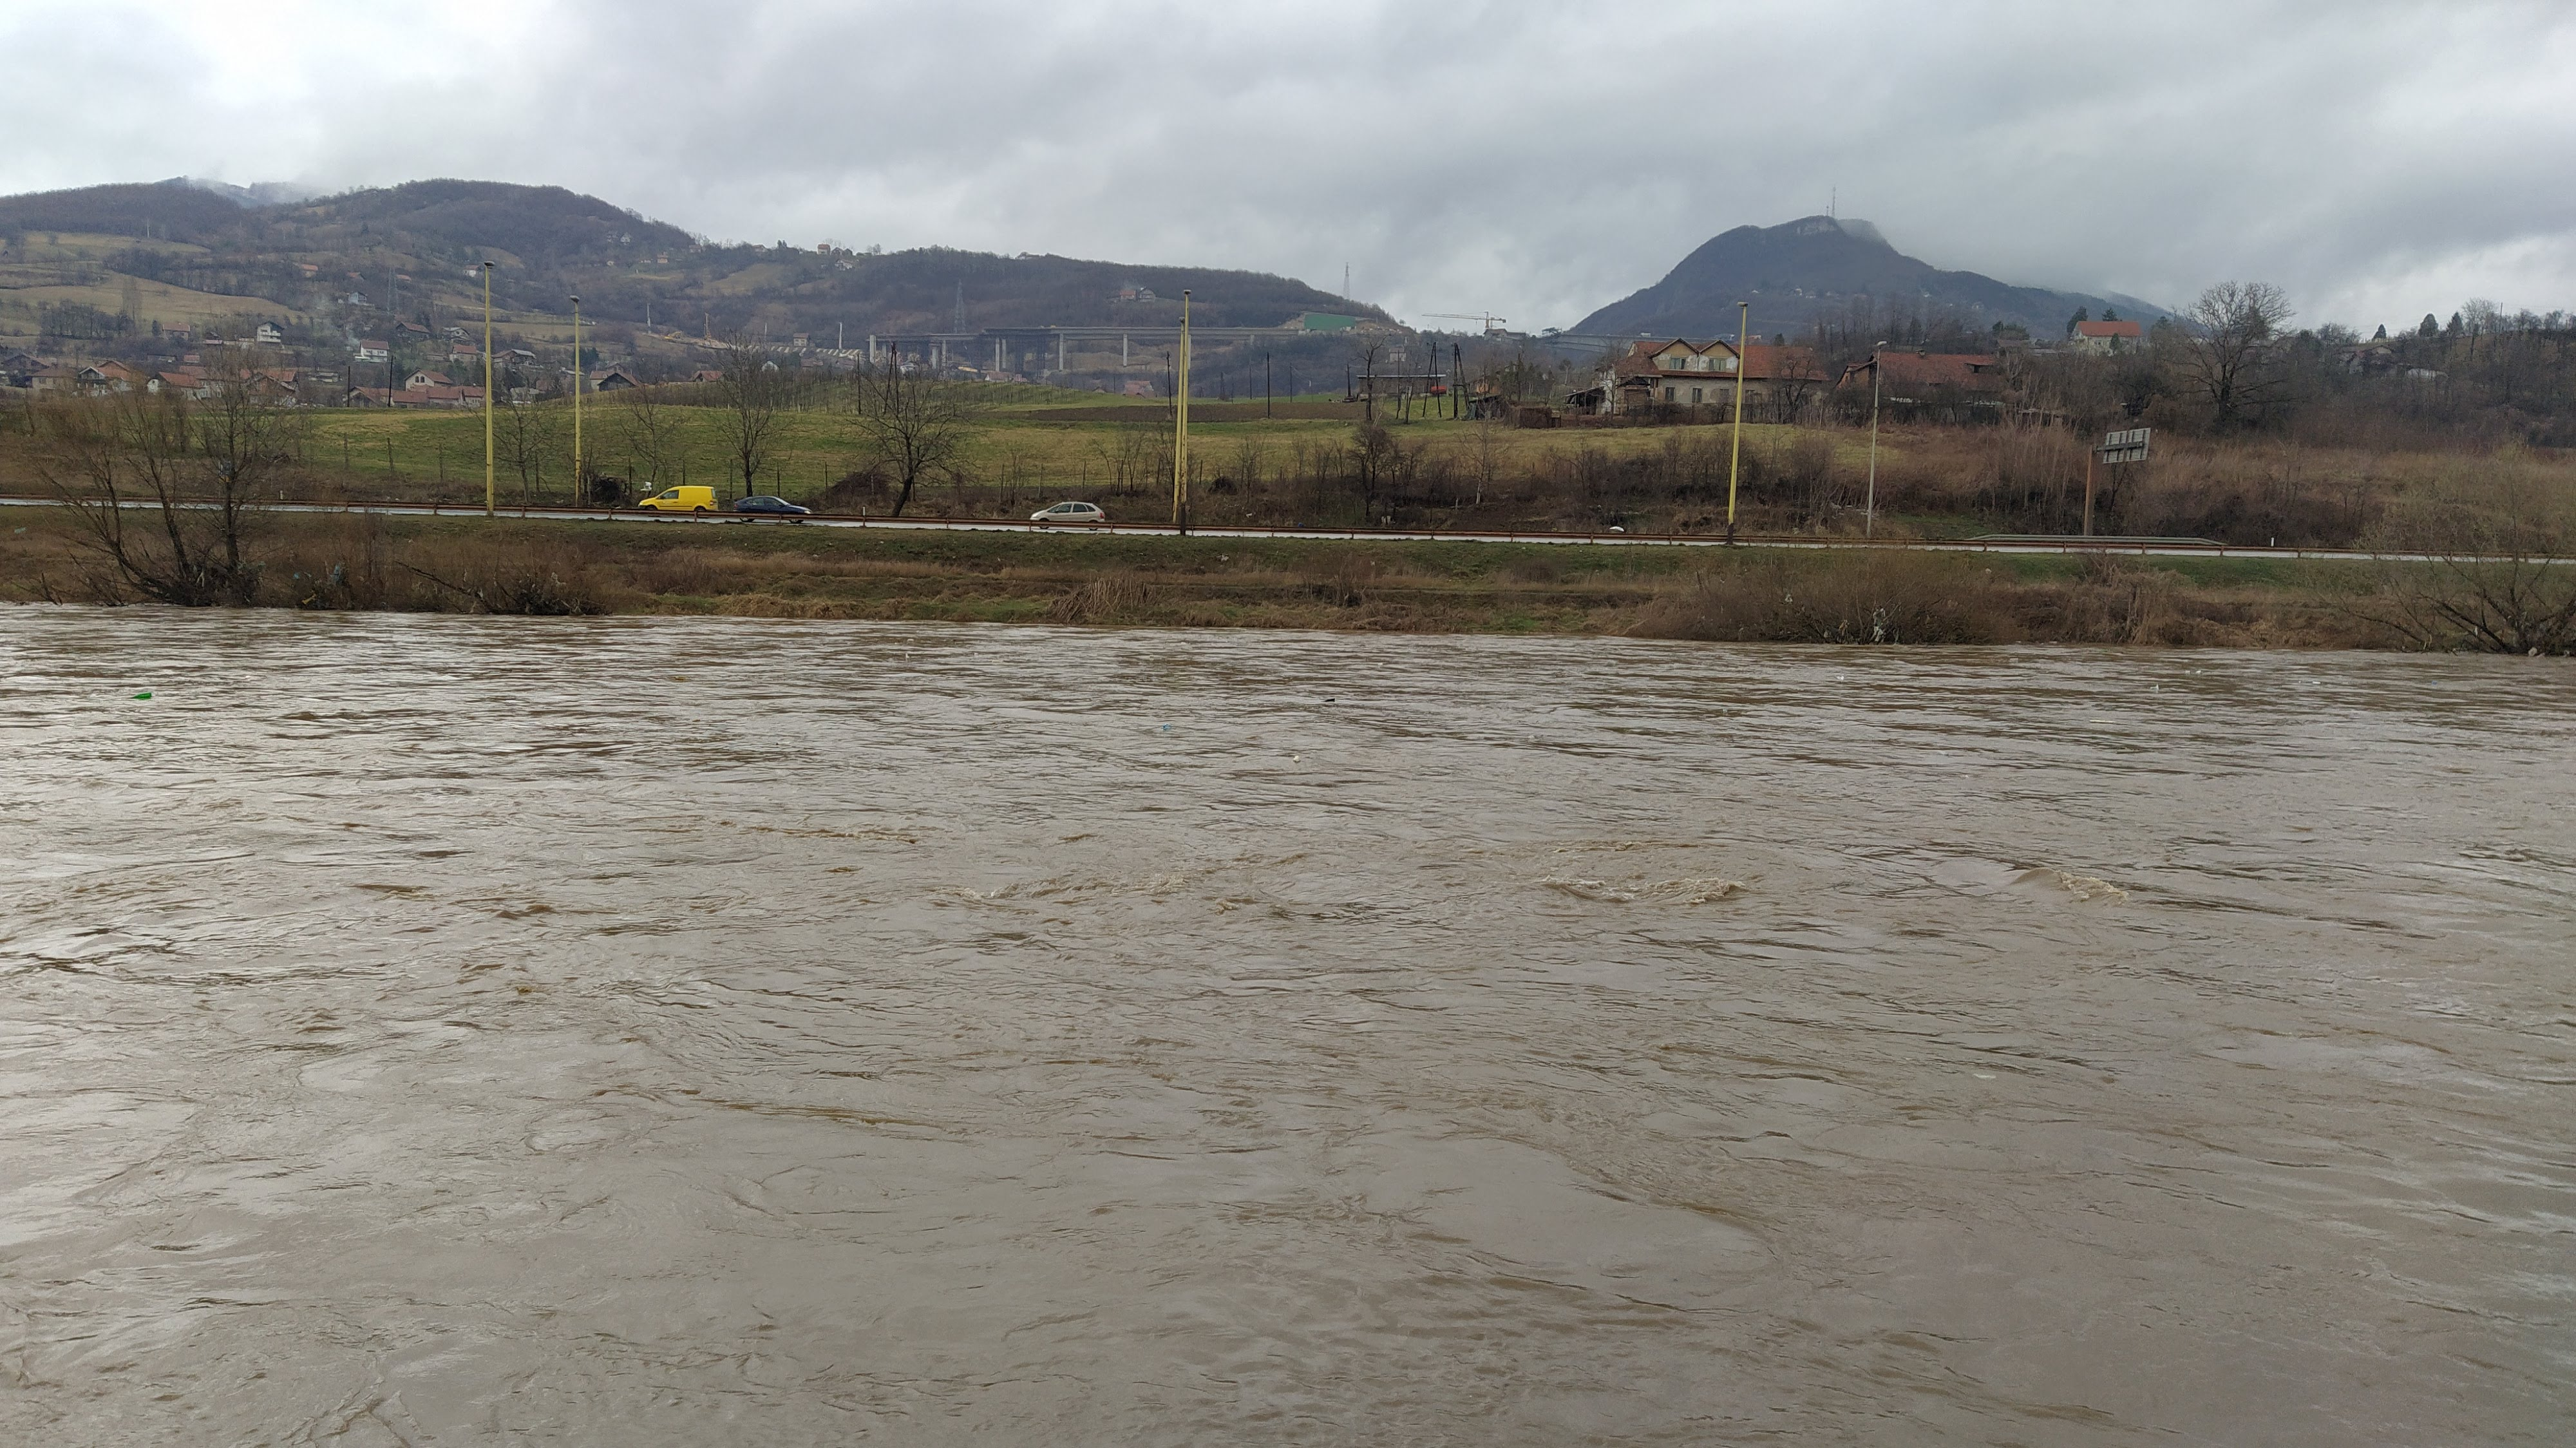Plastic Bottle: (131, 692, 152, 697), (1322, 697, 1336, 703), (1162, 724, 1169, 729), (2312, 680, 2319, 685), (1293, 756, 1299, 761), (2431, 682, 2436, 683)
